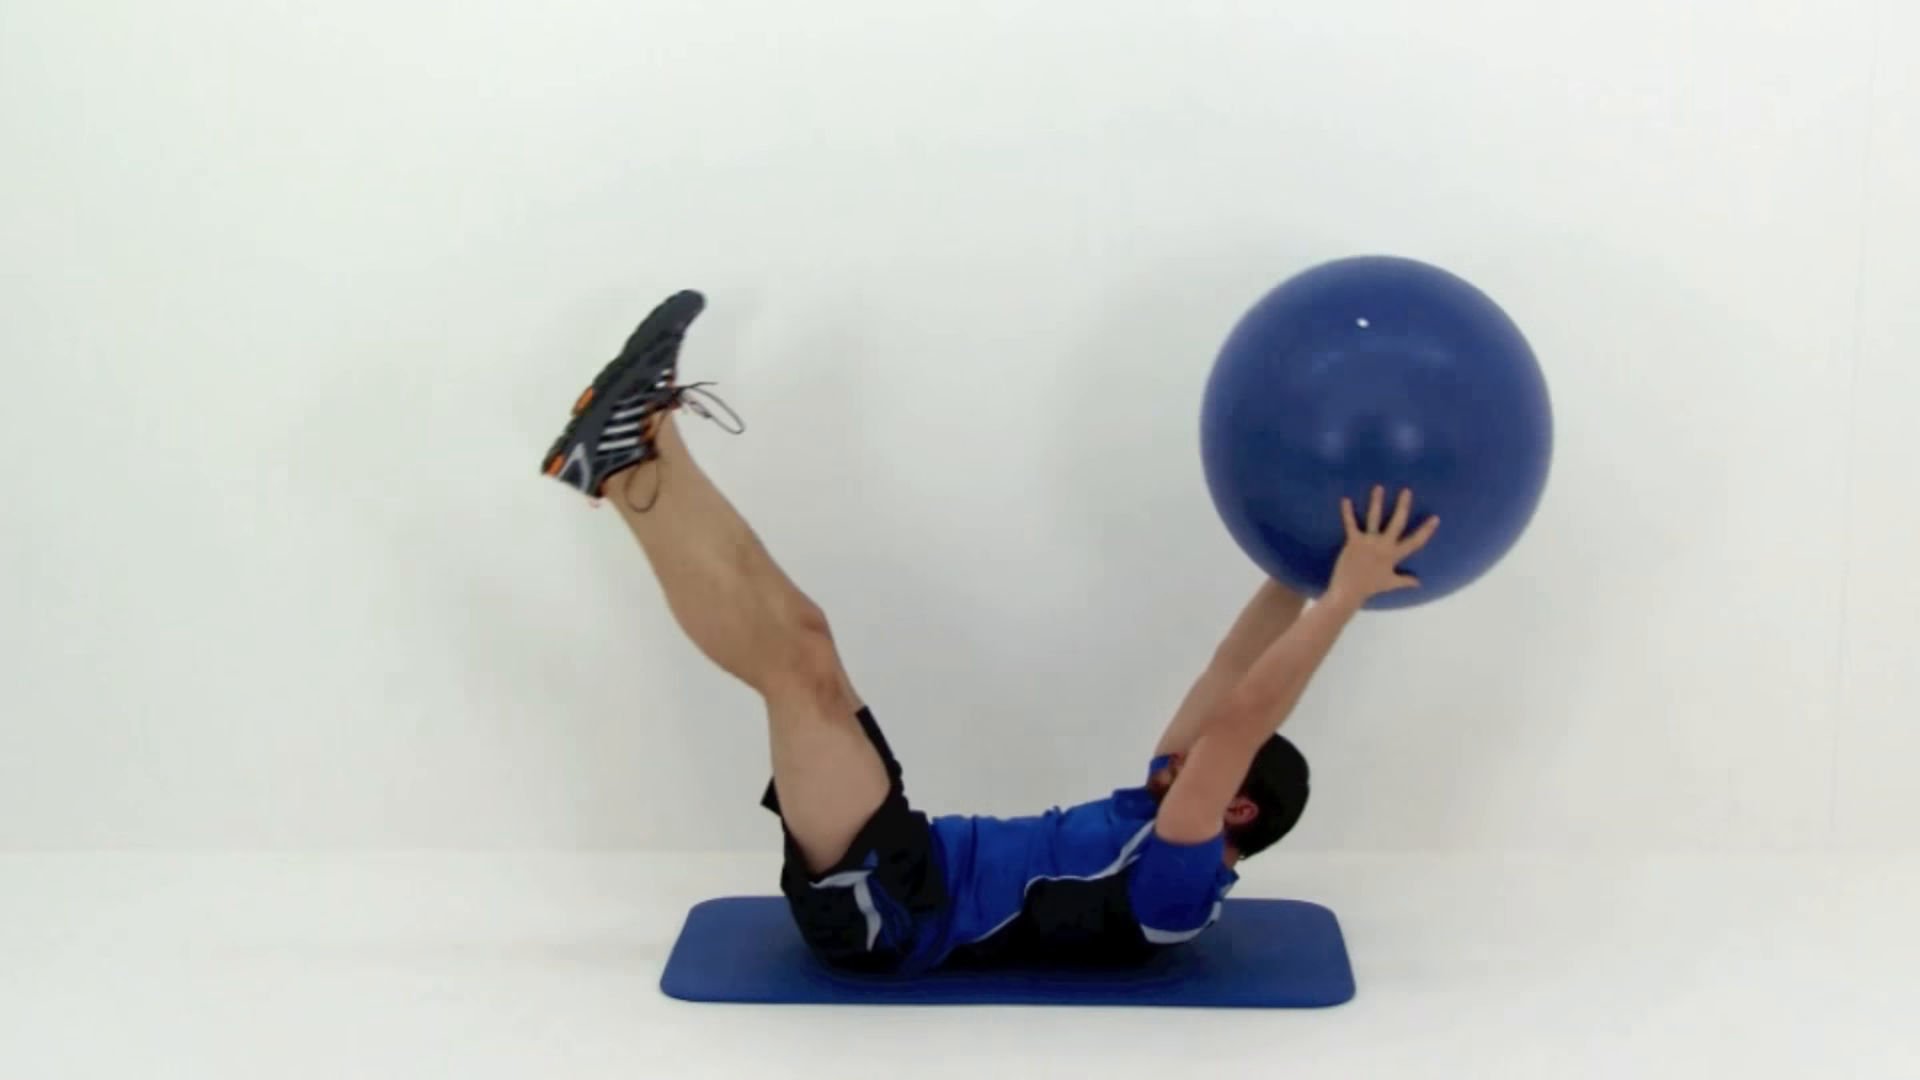yogaball: (1182, 241, 1568, 632)
